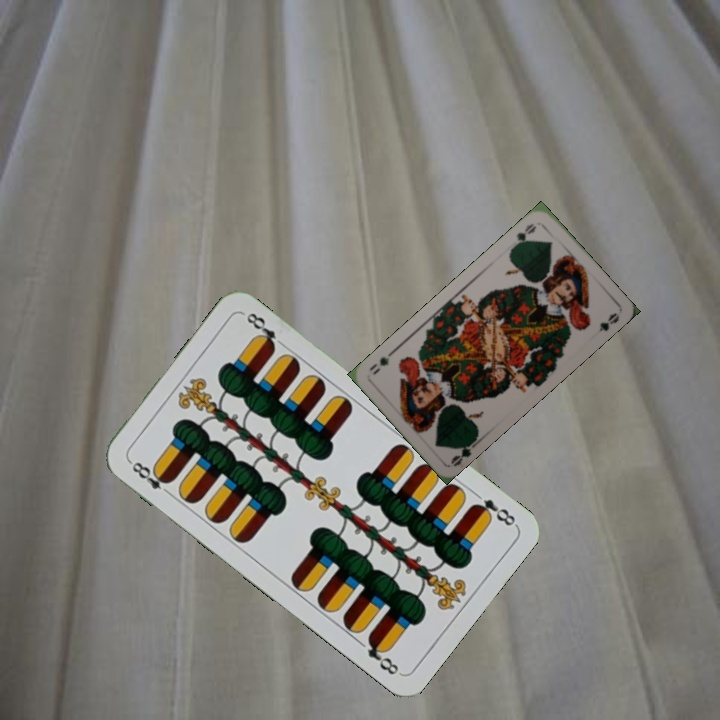E8: (125, 456, 174, 499), (468, 495, 519, 529)
GO: (447, 433, 482, 469), (509, 219, 539, 251)
